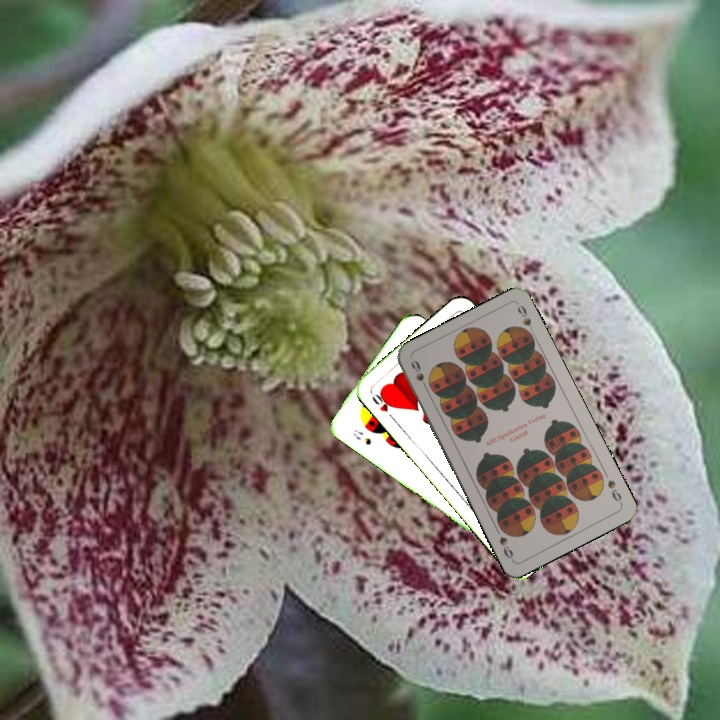HO: (368, 388, 397, 422)
S8: (349, 425, 374, 448)
S9: (407, 356, 431, 394), (603, 476, 625, 507)
